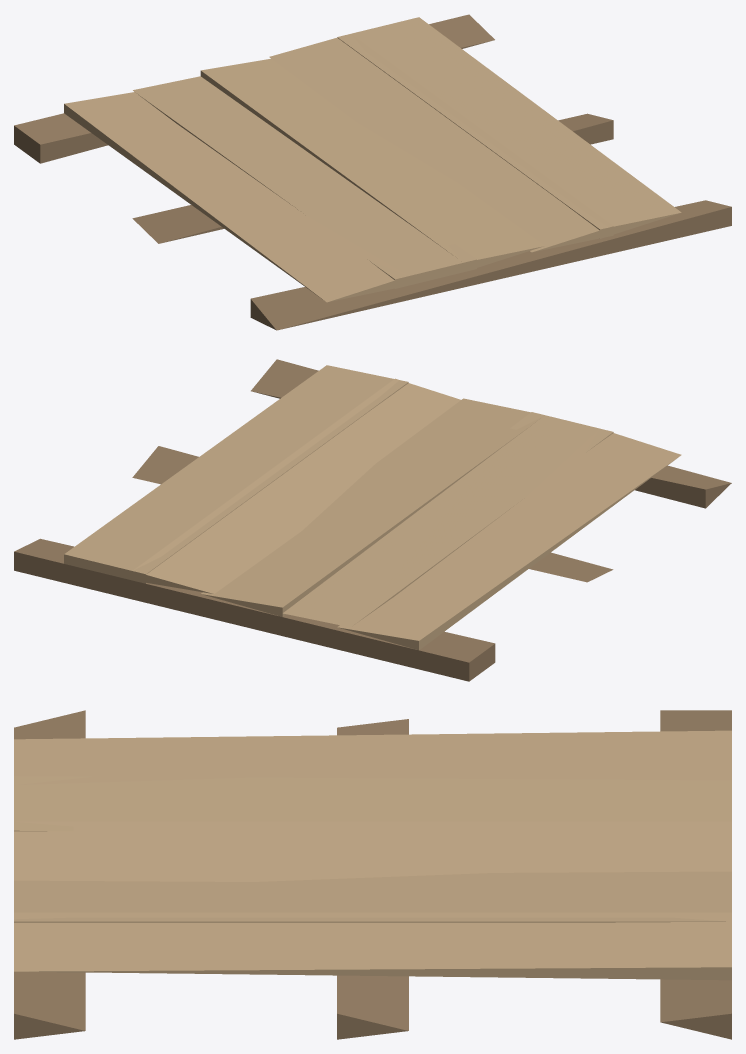
The model's file is 18-Casas_piso_madera.glb.
3 renders of one model, top to bottom at view 1: azimuth 30°, elevation 25°; view 2: azimuth 150°, elevation 25°; view 3: azimuth 270°, elevation 25°, orthographic. The views are drawn at different scales.
Parts seen in each view (by area): view 1: SM_Piso_M_Piso_Madera_Tabla, SM_Piso_M_Piso_Madera_Viga; view 2: SM_Piso_M_Piso_Madera_Tabla, SM_Piso_M_Piso_Madera_Viga; view 3: SM_Piso_M_Piso_Madera_Tabla, SM_Piso_M_Piso_Madera_Viga.
Part boxes in pixels (x1,y1,x2,y2): SM_Piso_M_Piso_Madera_Tabla: [64, 17, 681, 302]; SM_Piso_M_Piso_Madera_Viga: [14, 14, 731, 330]; SM_Piso_M_Piso_Madera_Tabla: [64, 365, 681, 650]; SM_Piso_M_Piso_Madera_Viga: [14, 359, 731, 681]; SM_Piso_M_Piso_Madera_Tabla: [14, 730, 731, 980]; SM_Piso_M_Piso_Madera_Viga: [14, 710, 731, 1039].
Bounding box in the file's own units: 1 × 0.06 × 1.
